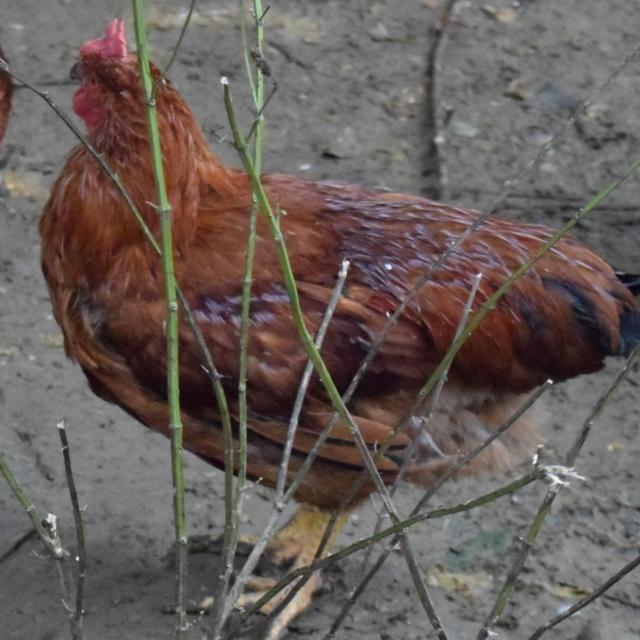cook: (188, 97, 478, 392), (347, 225, 640, 497), (324, 190, 553, 452), (15, 134, 201, 453), (154, 74, 276, 418), (62, 20, 165, 243), (240, 215, 315, 487), (293, 421, 378, 522), (172, 310, 225, 469), (285, 374, 340, 483), (465, 418, 544, 490)
